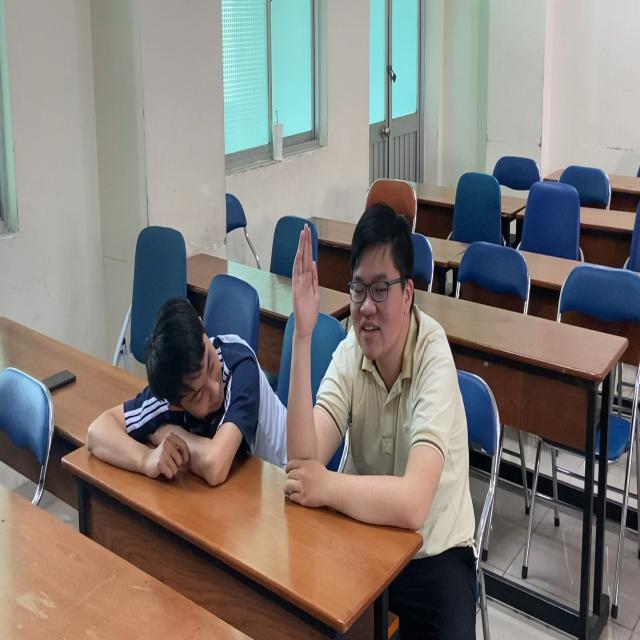raise_hand: (282, 198, 476, 549)
